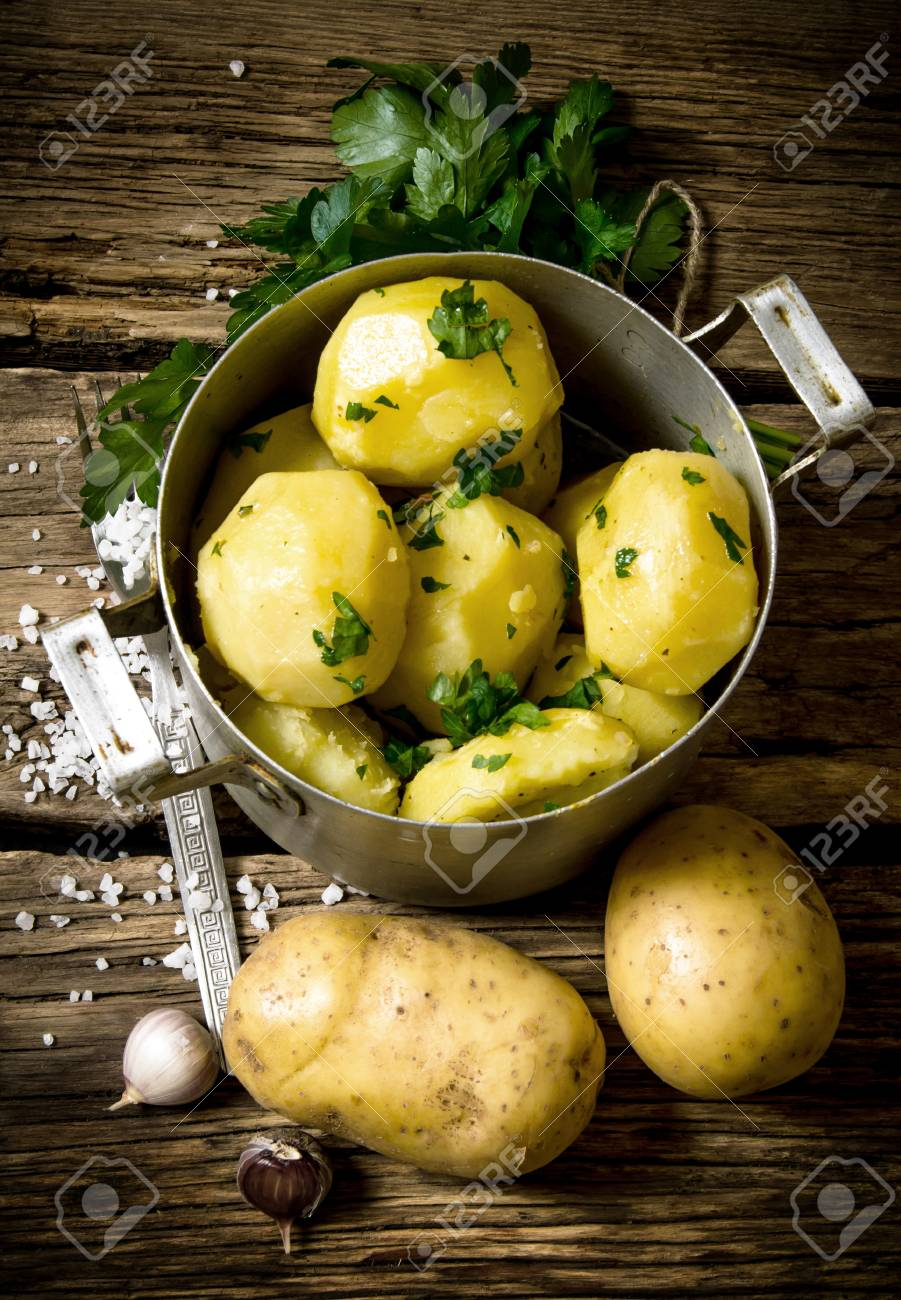boiled potatoes: (170, 298, 780, 810), (198, 916, 604, 1184), (602, 790, 854, 1094)
